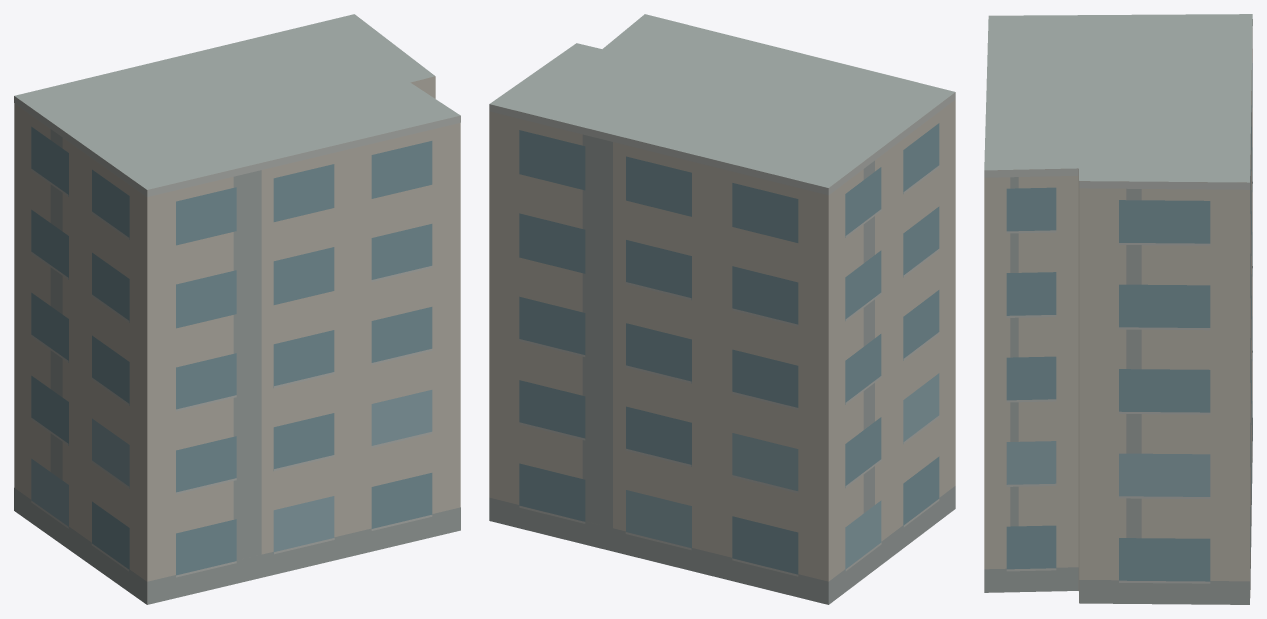
The model's file is survey-upis-32992975.glb.
3 views of the same model, side by side, from view 1: azimuth 30°, elevation 25°; view 2: azimuth 150°, elevation 25°; view 3: azimuth 270°, elevation 25° (orthographic).
Parts seen in each view (by area): view 1: survey-upis-32992975.tmp; view 2: survey-upis-32992975.tmp; view 3: survey-upis-32992975.tmp.
Boxes of the visible parts, x1,y1,x2,y2 form: survey-upis-32992975.tmp: (14, 14, 460, 604); survey-upis-32992975.tmp: (489, 14, 955, 604); survey-upis-32992975.tmp: (984, 14, 1252, 604).
Bounding box in the file's own units: 11.94 × 13.95 × 8.05.
